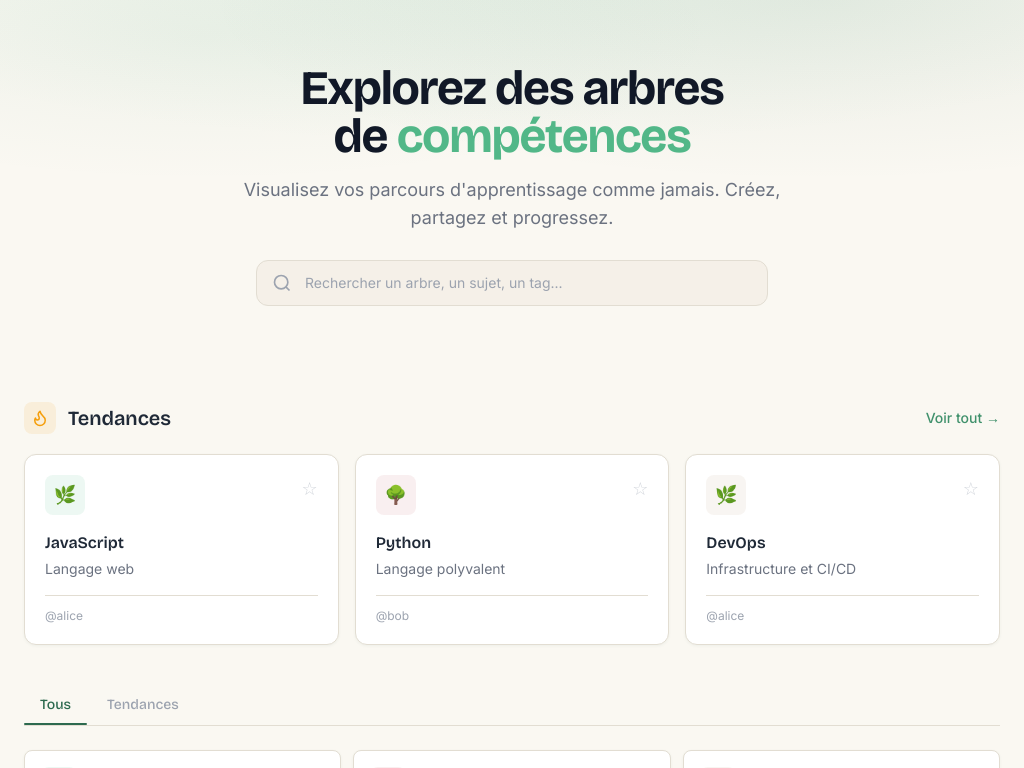
it: SkillTreeListPage - Recherche › filtre par description
This screenshot has width=1024, height=768.
Type "CI/CD" into the field with placeholder "Rechercher un arbre, un sujet, un tag..." at (512, 283), box x1=256 y1=260 x2=768 y2=306
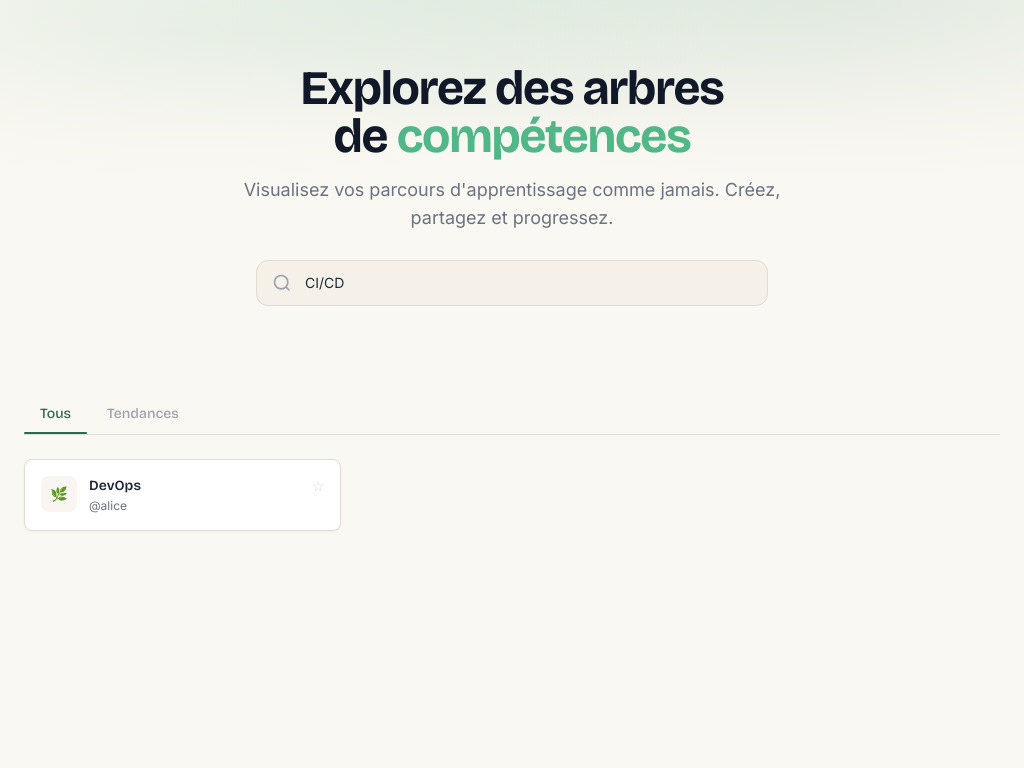
Expected: the heading "DevOps" is shown, x1=89 y1=476 x2=141 y2=496
Now the link "JavaScript" is gone
Now the link "Python" is gone
